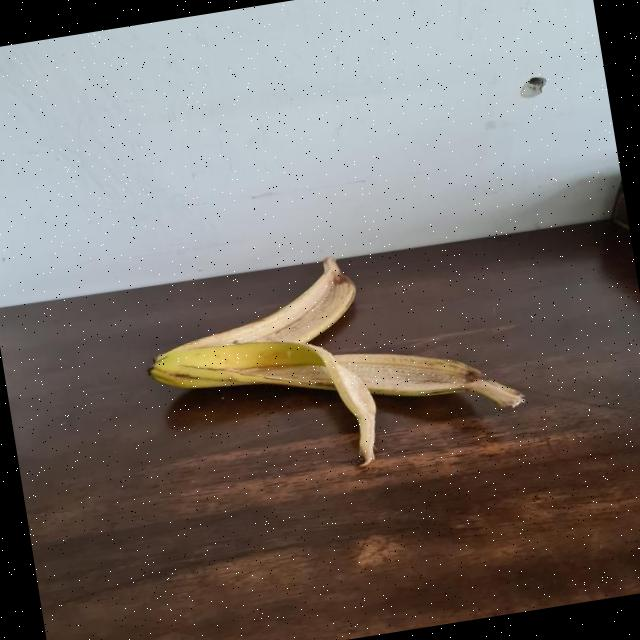banana-peel: (143, 293, 532, 497), (140, 252, 364, 368)
